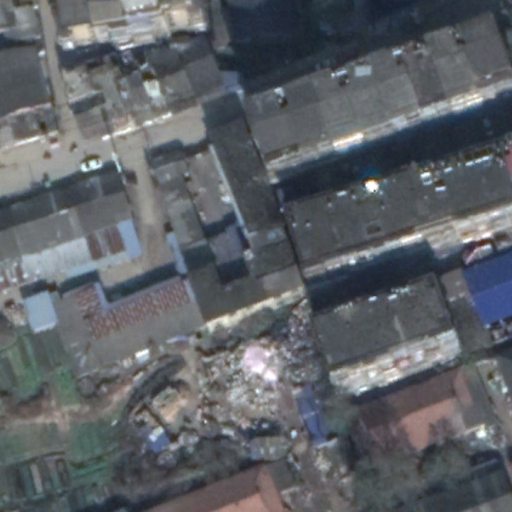msw: (144, 300, 327, 470)
